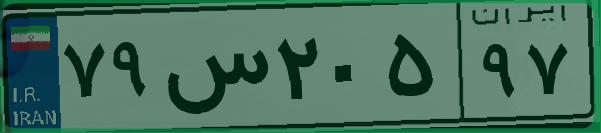0: (330, 28, 385, 110)
2: (270, 28, 330, 110)
5: (385, 28, 445, 110)
7: (57, 26, 110, 100), (525, 38, 570, 115)
9: (475, 38, 525, 113), (110, 28, 158, 98)
س: (158, 20, 270, 120)
